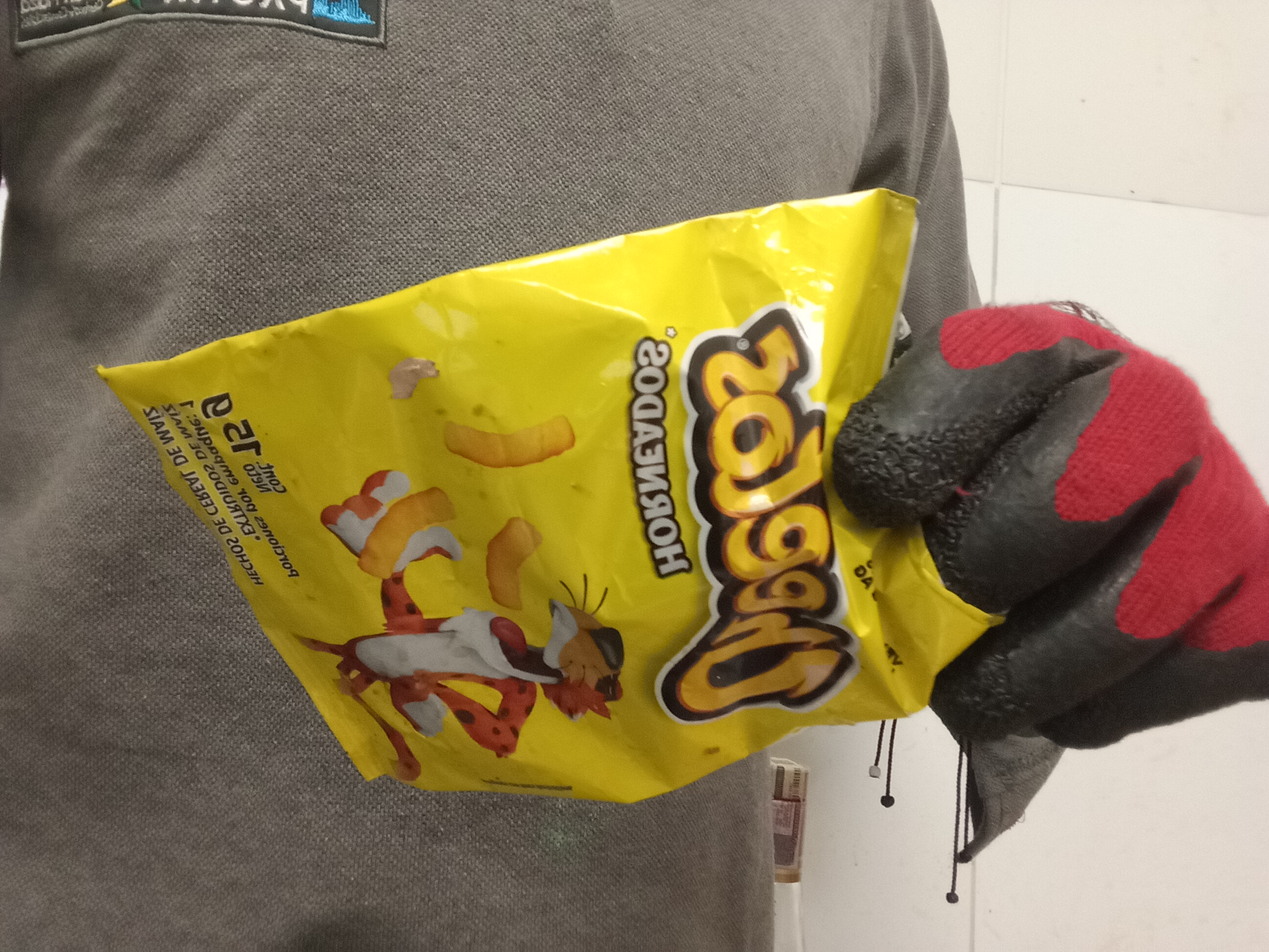Ordinario: (92, 187, 919, 809)
